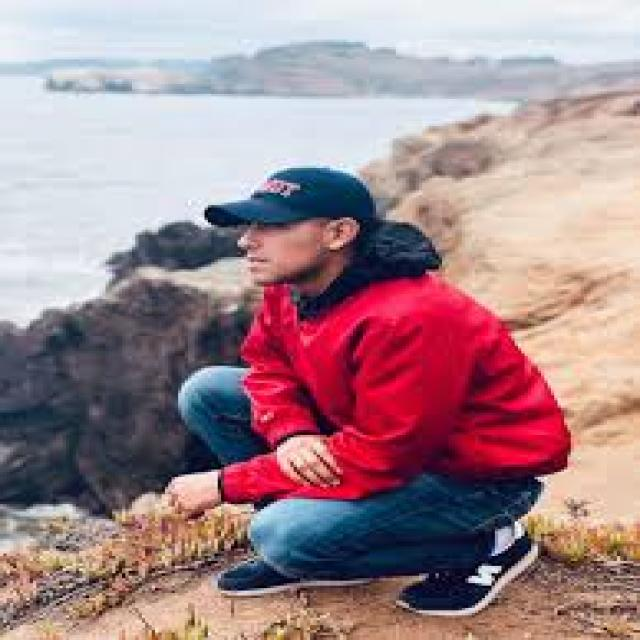3_gorra: (205, 166, 382, 226)
